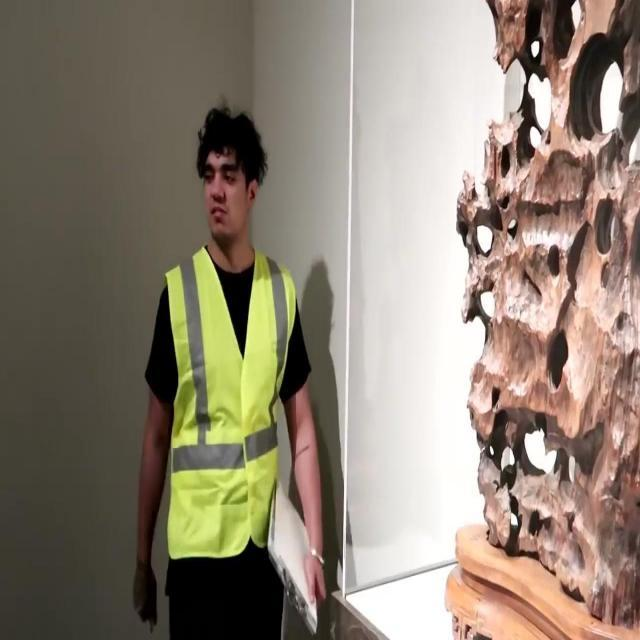person_with_vest: (136, 248, 301, 572)
